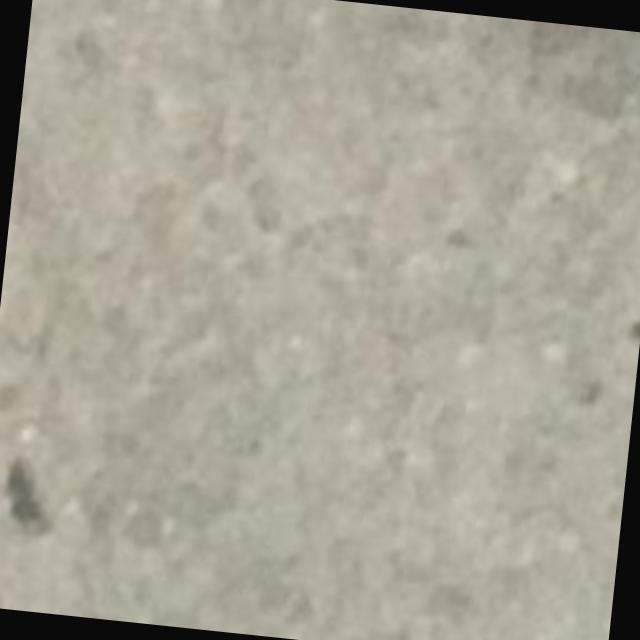peeling plaster: (4, 459, 51, 537)
